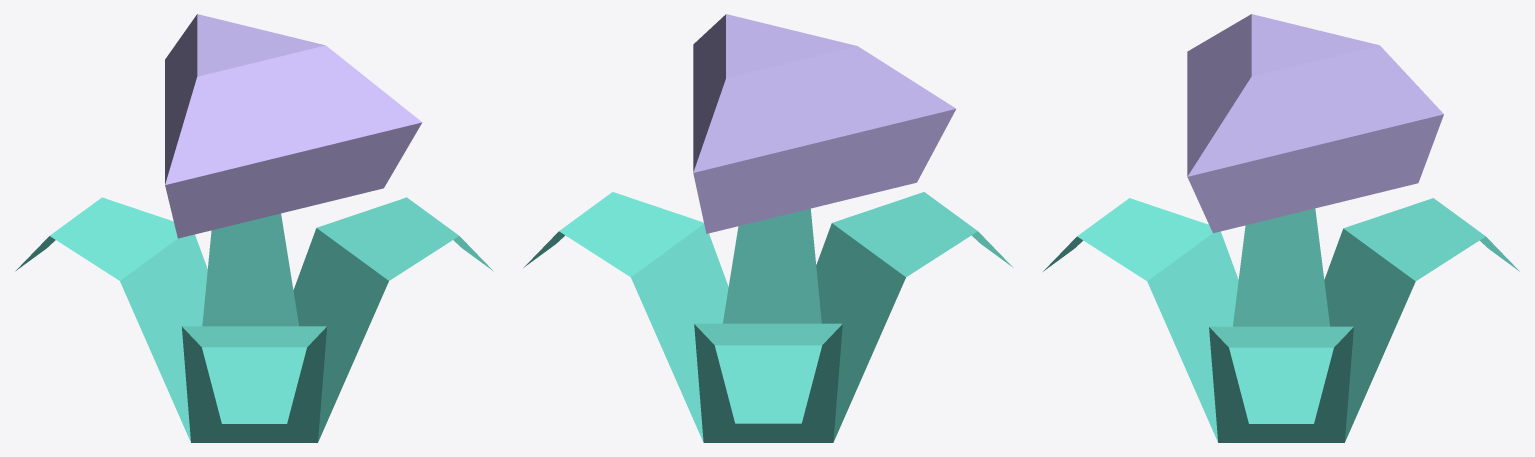
Rendered from flower_purpleB.gltf.
3 views of the same model, side by side, from view 1: azimuth 30°, elevation 25°; view 2: azimuth 150°, elevation 25°; view 3: azimuth 270°, elevation 25° (orthographic). The views are drawn at different scales.
Visible parts, largest first — view 1: flower_purpleB; view 2: flower_purpleB; view 3: flower_purpleB.
Boxes of the visible parts, x1,y1,x2,y2 form: flower_purpleB: [15, 14, 493, 442]; flower_purpleB: [523, 14, 1013, 442]; flower_purpleB: [1043, 14, 1519, 442].
Size of the model in its own units: 0.2073 by 0.2085 by 0.2392.
